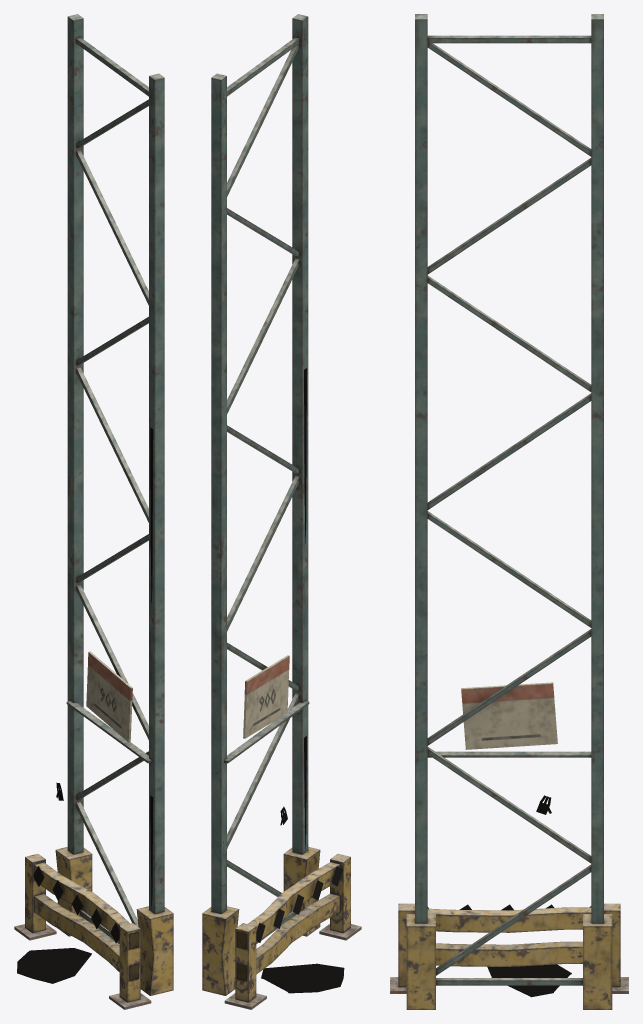
The model's file is rack_end.fbx.
3 views of the same model, side by side, from view 1: azimuth 30°, elevation 25°; view 2: azimuth 150°, elevation 25°; view 3: azimuth 270°, elevation 25° (orthographic). The views are drawn at different scales.
Visible parts, largest first — view 1: Body; view 2: Body; view 3: Body.
Boxes of the visible parts, bbox=[...] form: Body: bbox=[14, 14, 173, 1009]; Body: bbox=[202, 14, 361, 1009]; Body: bbox=[390, 14, 628, 1009].
Bounding box in the file's own units: 2.99 × 26 × 5.7.
Materials: 1 (1 with a texture image).
